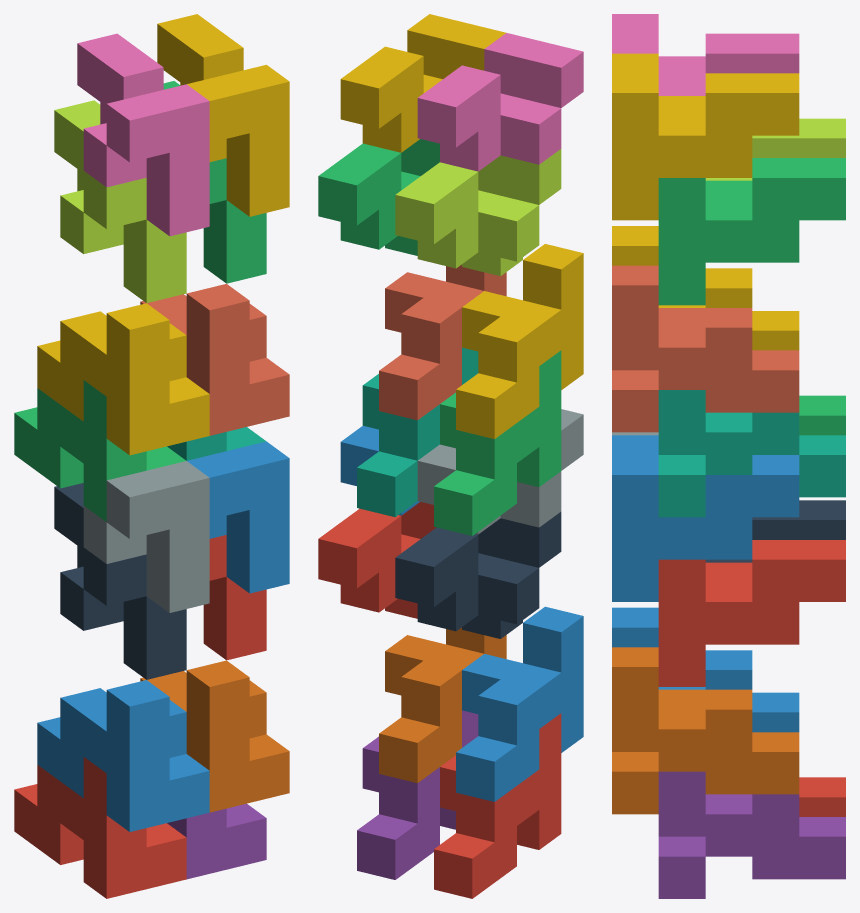
The model's file is tiling.obj.
The picture shows the model from 3 angles, left to right: view 1: azimuth 30°, elevation 25°; view 2: azimuth 150°, elevation 25°; view 3: azimuth 270°, elevation 25°; orthographic projection. The views are drawn at different scales.
Parts seen in each view (by area): view 1: copy_2_domain_4, copy_1_domain_4, copy_1_domain_2, copy_2_domain_8, copy_2_domain_2, copy_1_domain_1, copy_1_domain_6, copy_1_domain_8, copy_2_domain_3, copy_2_domain_1, copy_2_domain_6, copy_1_domain_3 (+4 smaller); view 2: copy_1_domain_2, copy_1_domain_4, copy_2_domain_4, copy_2_domain_3, copy_2_domain_1, copy_1_domain_1, copy_1_domain_3, copy_1_domain_8, copy_1_domain_6, copy_2_domain_8, copy_2_domain_7, copy_1_domain_5 (+4 smaller); view 3: copy_1_domain_6, copy_1_domain_8, copy_2_domain_8, copy_2_domain_7, copy_2_domain_5, copy_2_domain_6, copy_1_domain_5, copy_1_domain_7, copy_2_domain_4, copy_1_domain_2, copy_1_domain_4, copy_2_domain_1 (+3 smaller).
Part boxes in pixels (box(x1,y1,x2,y2)): copy_2_domain_4: box(77, 33, 209, 236); copy_1_domain_4: box(37, 303, 209, 455); copy_1_domain_2: box(37, 680, 209, 831); copy_2_domain_8: box(157, 14, 289, 216); copy_2_domain_2: box(83, 461, 209, 612); copy_1_domain_1: box(14, 757, 186, 898); copy_1_domain_6: box(140, 660, 289, 812); copy_1_domain_8: box(140, 284, 289, 435); copy_2_domain_3: box(54, 100, 186, 302); copy_2_domain_1: box(54, 483, 186, 679); copy_2_domain_6: box(187, 441, 289, 593); copy_1_domain_3: box(14, 380, 186, 521); copy_1_domain_2: box(456, 606, 583, 801); copy_1_domain_4: box(456, 244, 583, 438); copy_2_domain_4: box(417, 33, 583, 171); copy_2_domain_3: box(395, 149, 561, 276); copy_2_domain_1: box(395, 512, 561, 638); copy_1_domain_1: box(434, 713, 561, 898); copy_1_domain_3: box(434, 350, 561, 535); copy_1_domain_8: box(379, 264, 506, 420); copy_1_domain_6: box(379, 627, 506, 783); copy_2_domain_8: box(340, 14, 506, 152); copy_2_domain_7: box(318, 139, 439, 255); copy_1_domain_5: box(357, 710, 478, 879); copy_1_domain_6: box(612, 647, 799, 814); copy_1_domain_8: box(612, 265, 799, 432); copy_2_domain_8: box(612, 53, 799, 220); copy_2_domain_7: box(658, 158, 845, 305); copy_2_domain_5: box(658, 540, 845, 686); copy_2_domain_6: box(612, 435, 799, 601); copy_1_domain_5: box(658, 771, 845, 898); copy_1_domain_7: box(658, 390, 845, 517); copy_2_domain_4: box(612, 14, 799, 95); copy_1_domain_2: box(612, 607, 799, 732); copy_1_domain_4: box(612, 226, 799, 350); copy_2_domain_1: box(705, 500, 845, 562).
Size of the model in its own units: 4 by 19 by 5.
